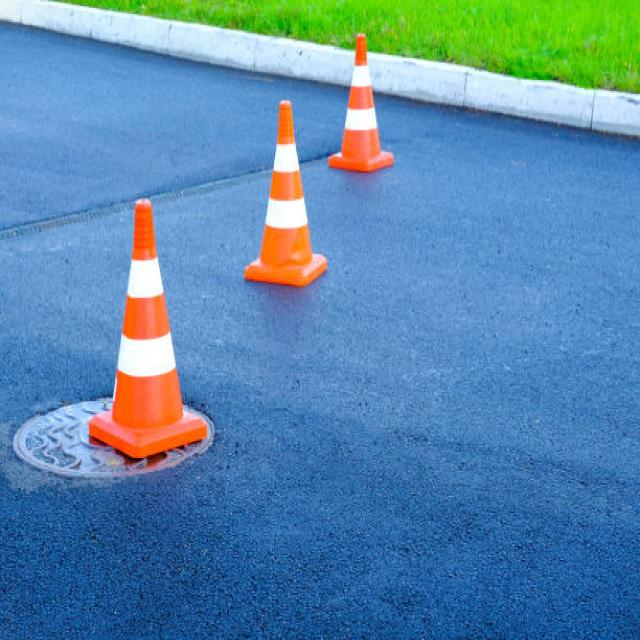Traffic Cone: (60, 141, 238, 509), (225, 80, 343, 321), (328, 26, 396, 192)
